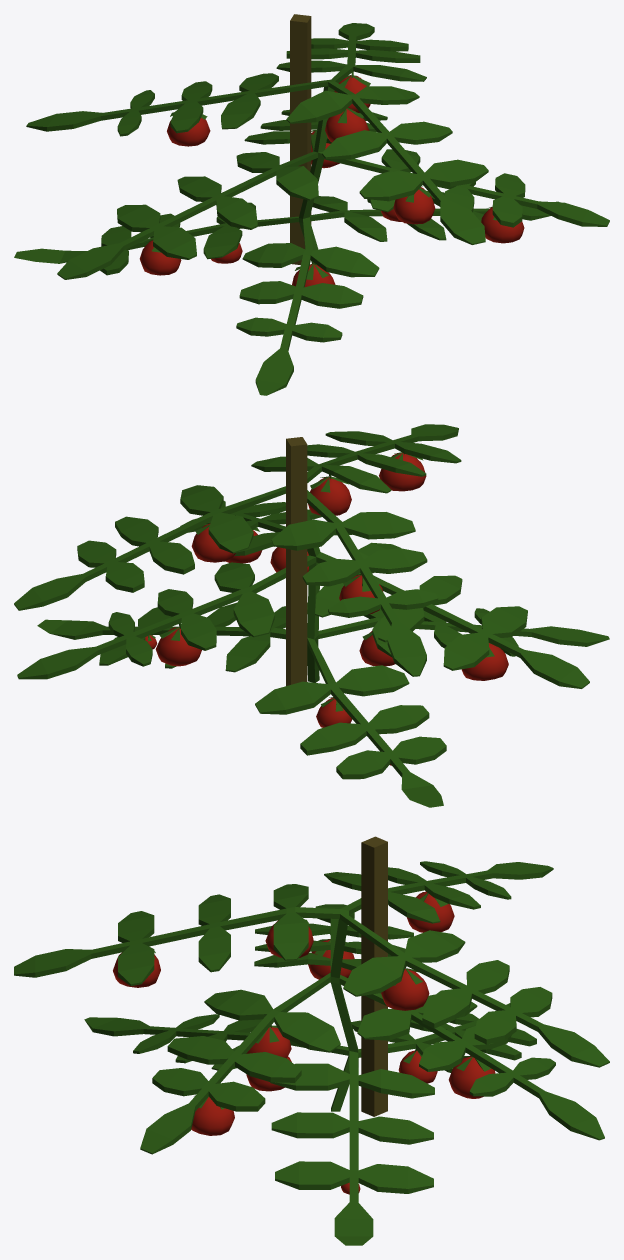
Rendered from TomatoCrop Dead.fbx.
3 renders of one model, top to bottom at view 1: azimuth 30°, elevation 25°; view 2: azimuth 150°, elevation 25°; view 3: azimuth 270°, elevation 25°, orthographic. The views are drawn at different scales.
Parts seen in each view (by area): view 1: Box001, Box002, Sphere010, Sphere012, Sphere008, Sphere007, Sphere011, Sphere004; view 2: Box001, Box002, Sphere009, Sphere012, Sphere008, Sphere010, Sphere013, Sphere001, Sphere004, Sphere011; view 3: Box001, Box002, Sphere013, Sphere007, Sphere009, Sphere011, Sphere006, Sphere001, Sphere008.
Part boxes in pixels (left/top/right/bottom): Box001: left=14, top=23, right=609, bottom=395; Box002: left=290, top=14, right=311, bottom=264; Sphere010: left=393, top=186, right=435, bottom=224; Sphere012: left=325, top=108, right=369, bottom=142; Sphere008: left=139, top=239, right=181, bottom=275; Sphere007: left=481, top=206, right=524, bottom=243; Sphere011: left=167, top=112, right=210, bottom=146; Sphere004: left=292, top=261, right=335, bottom=286; Box001: left=14, top=424, right=609, bottom=807; Box002: left=286, top=437, right=307, bottom=685; Sphere009: left=155, top=623, right=201, bottom=666; Sphere012: left=308, top=474, right=351, bottom=515; Sphere008: left=461, top=643, right=508, bottom=680; Sphere010: left=379, top=452, right=426, bottom=491; Sphere013: left=191, top=522, right=235, bottom=562; Sphere001: left=316, top=697, right=352, bottom=727; Sphere004: left=359, top=631, right=395, bottom=666; Sphere011: left=339, top=574, right=383, bottom=614; Box001: left=14, top=861, right=609, bottom=1245; Box002: left=361, top=836, right=387, bottom=1116; Sphere013: left=381, top=966, right=429, bottom=1010; Sphere007: left=191, top=1095, right=234, bottom=1135; Sphere009: left=448, top=1055, right=495, bottom=1098; Sphere011: left=407, top=891, right=454, bottom=932; Sphere006: left=246, top=1025, right=291, bottom=1058; Sphere001: left=398, top=1049, right=437, bottom=1083; Sphere008: left=308, top=934, right=354, bottom=979.
Size of the model in its own units: 330 by 151 by 302.
